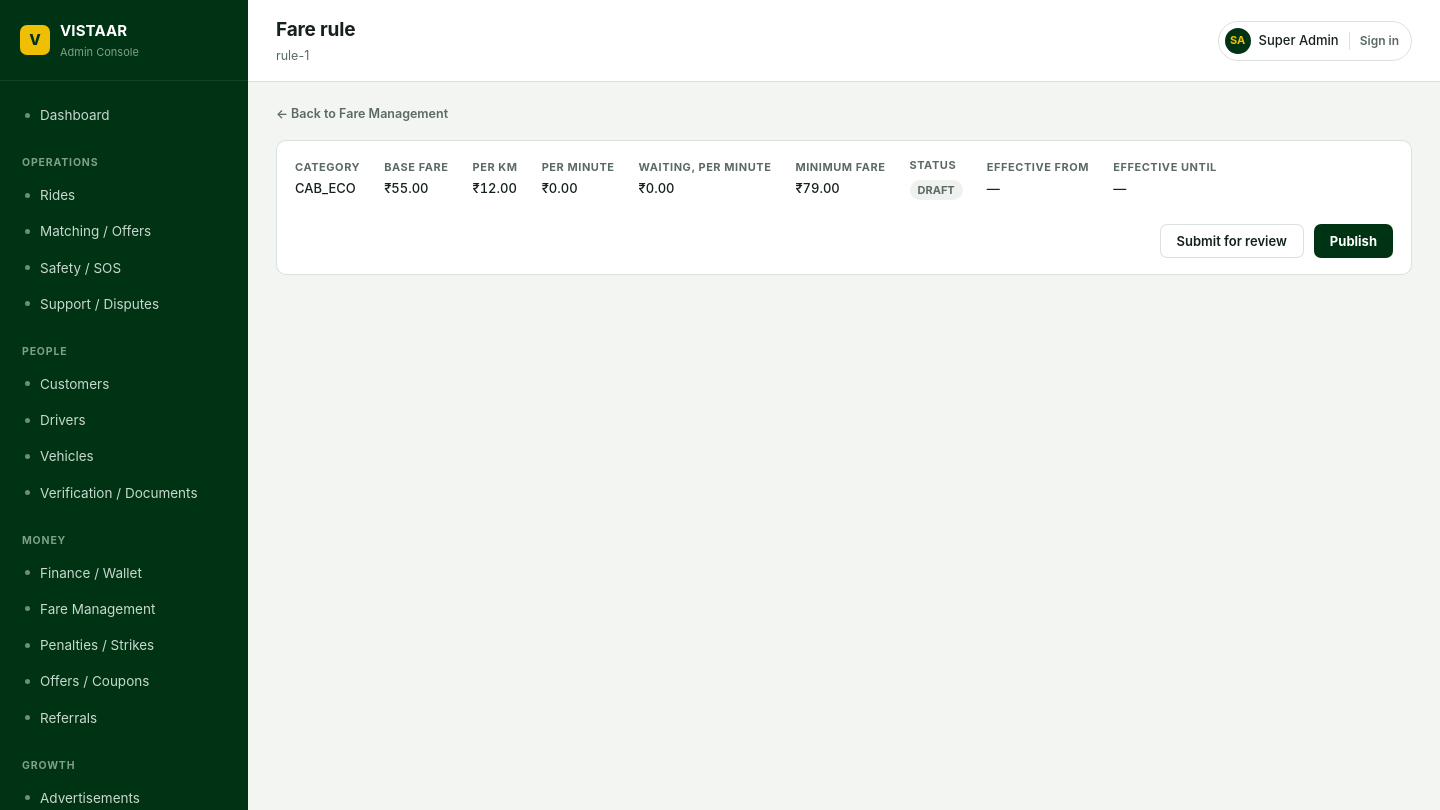
Scenario: FareRuleDetailPage › publishes with no effective_from when left blank (effective now)
Click the button "Publish" at (1353, 241), box [1314,224,1393,258]
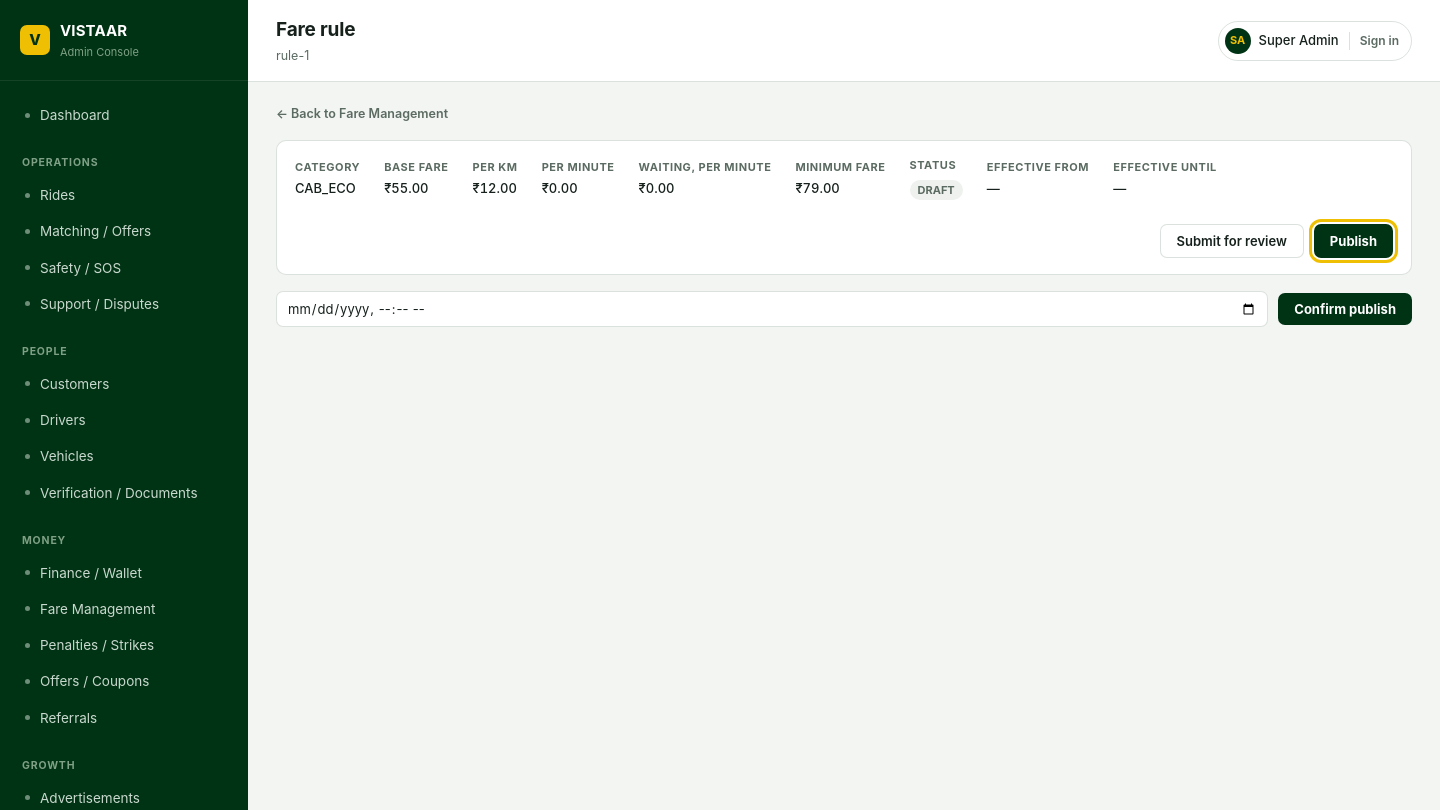
Click the button "Confirm publish" at (1345, 309), box [1278,293,1412,325]
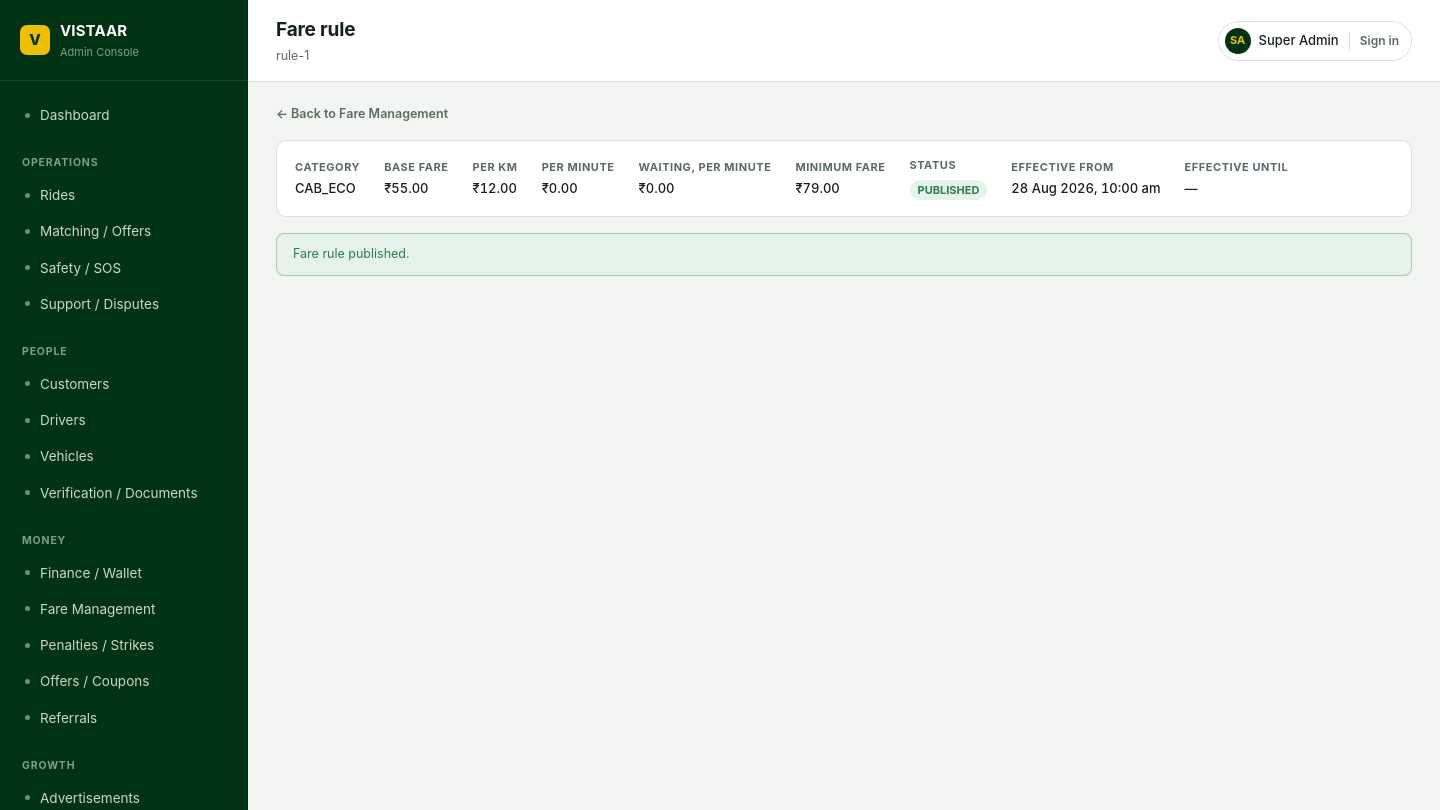
Result: the text "Fare rule published." is shown at [276,233,1412,276]
